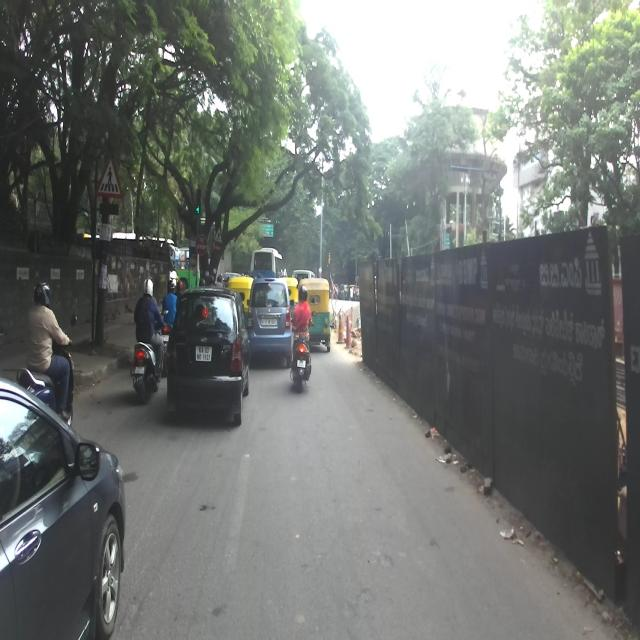autorickshaw: (297, 277, 331, 352)
bus: (81, 231, 176, 267), (168, 245, 202, 299), (250, 246, 283, 287)
car: (0, 376, 125, 639), (164, 287, 250, 428), (246, 277, 293, 369)
motorcycle: (160, 307, 183, 377)
scooter: (16, 314, 78, 426), (129, 309, 169, 401), (290, 318, 314, 392)
